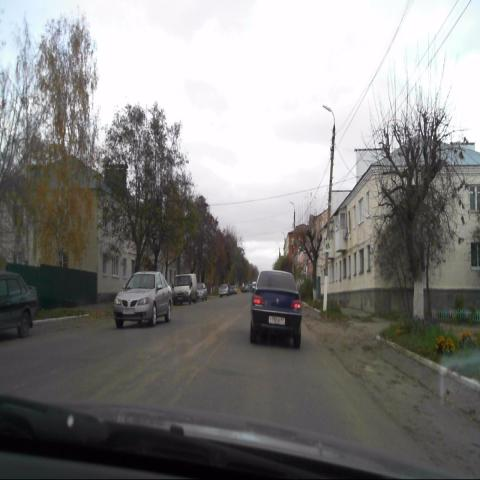1_23: (323, 239, 333, 254)
